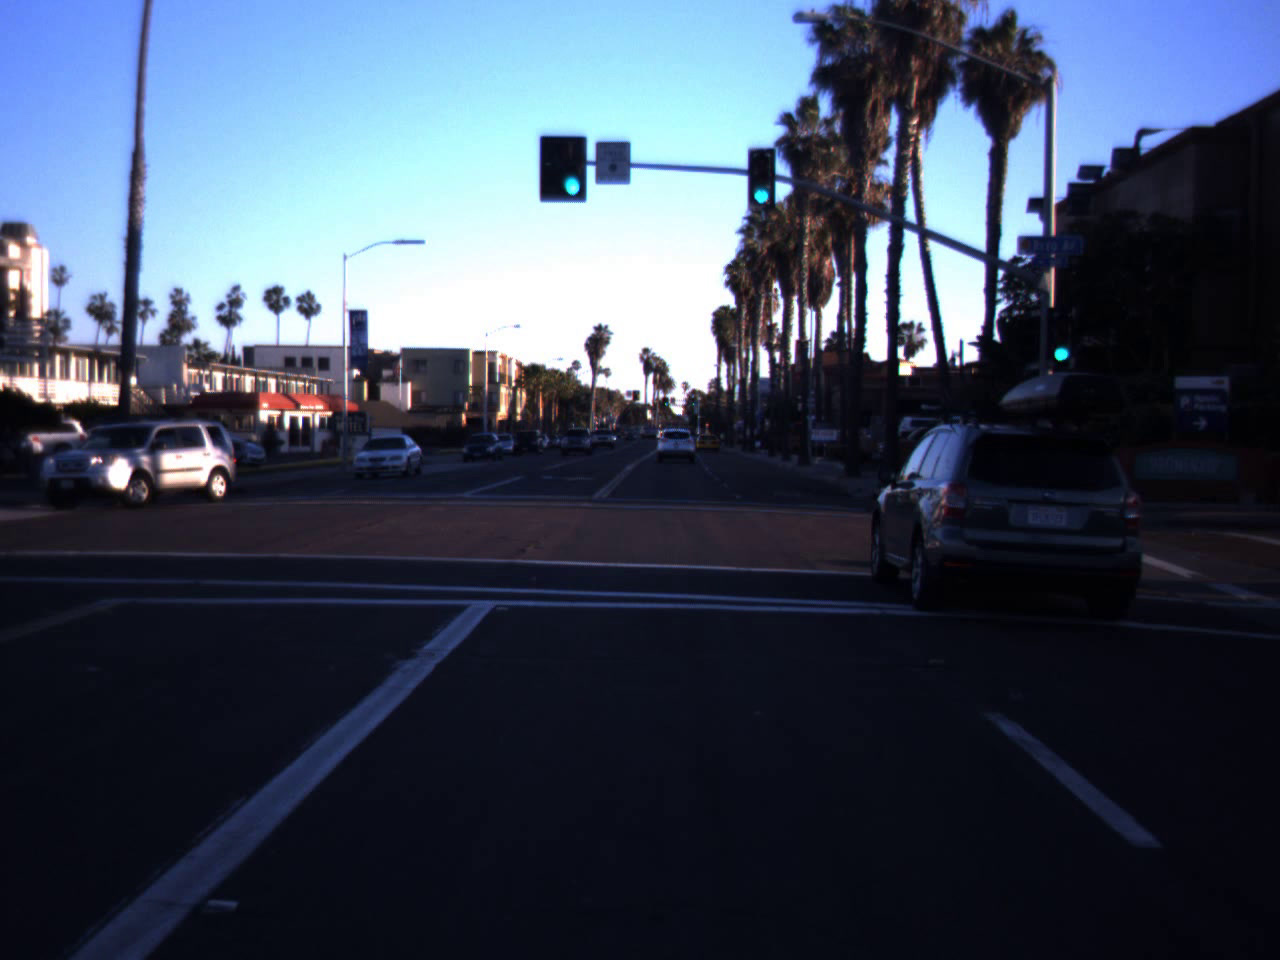go: (553, 126, 592, 201), (1042, 310, 1081, 365), (742, 152, 781, 207)
